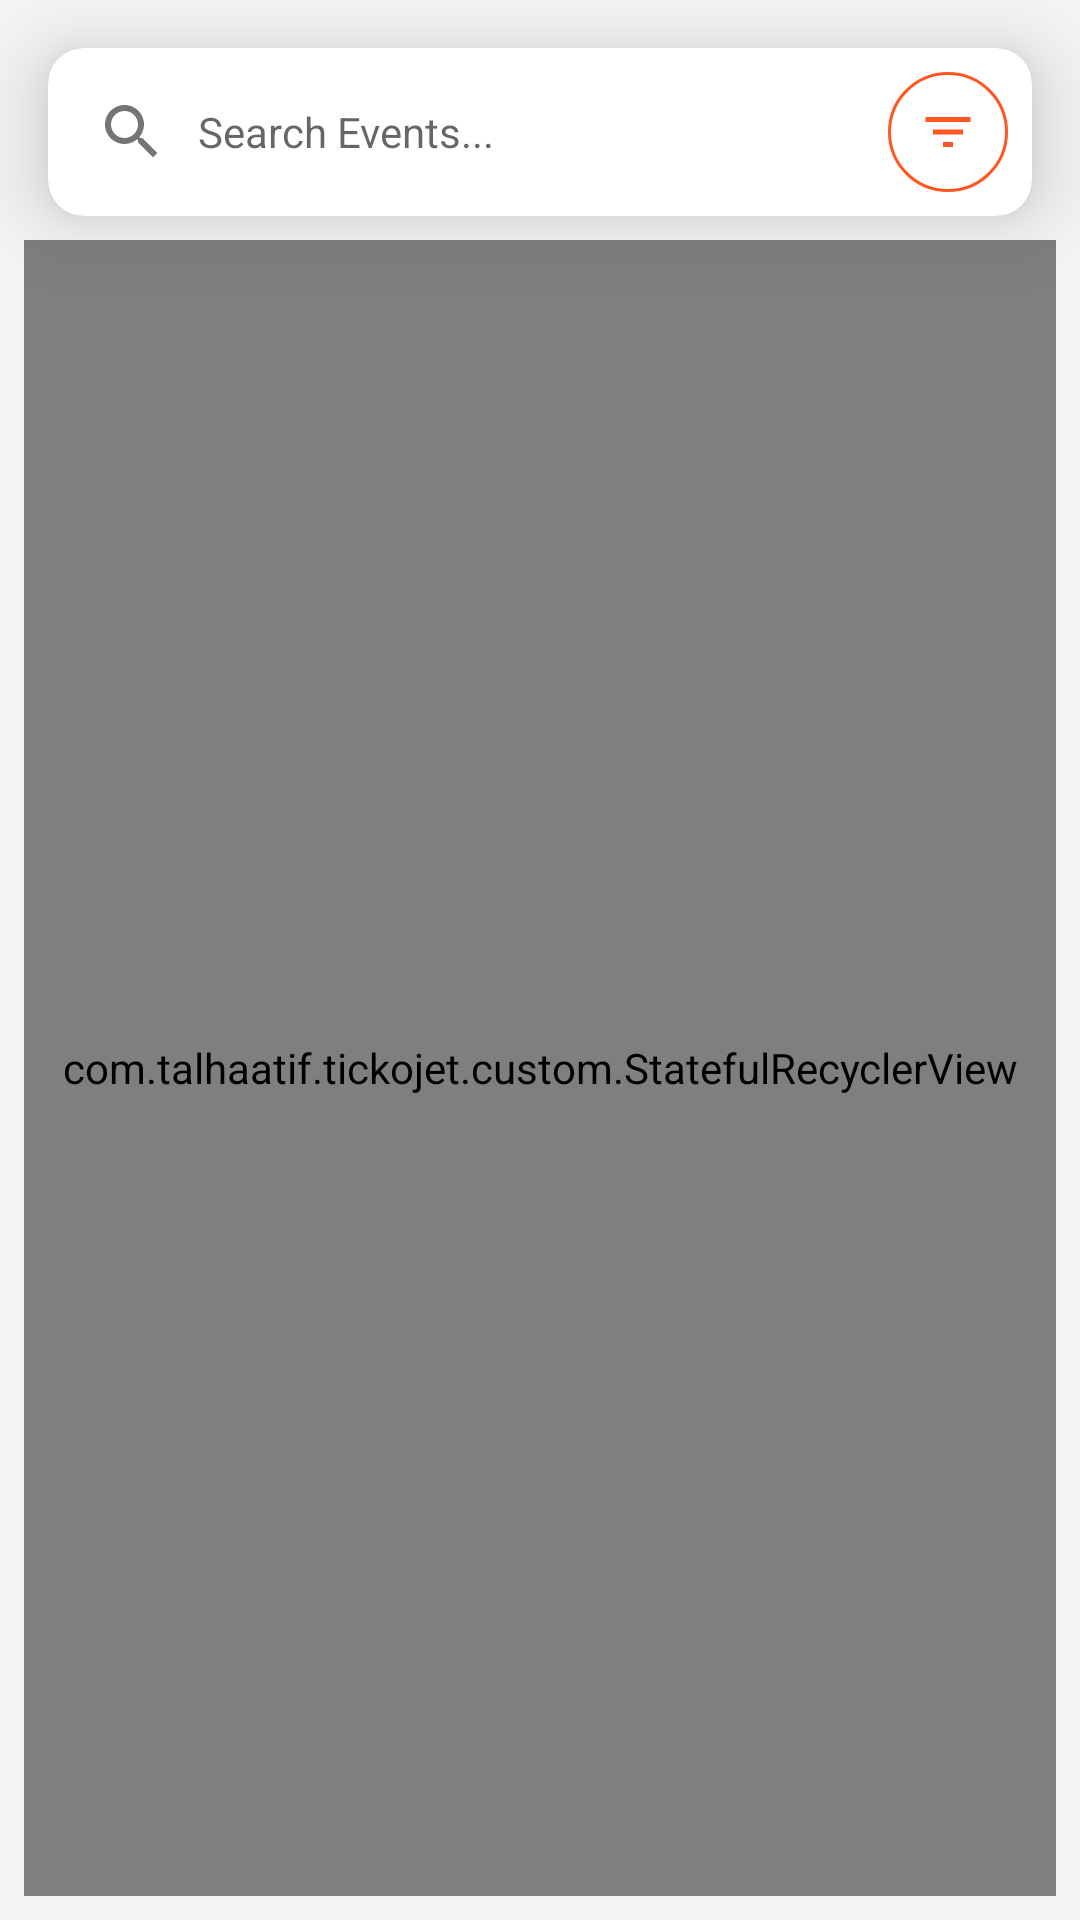

Named icons in this screenshot (1080w x 1920h) and their bounding boxes, BBox(x1, y1, x2, y2):
filter: BBox(888, 72, 1008, 192)
